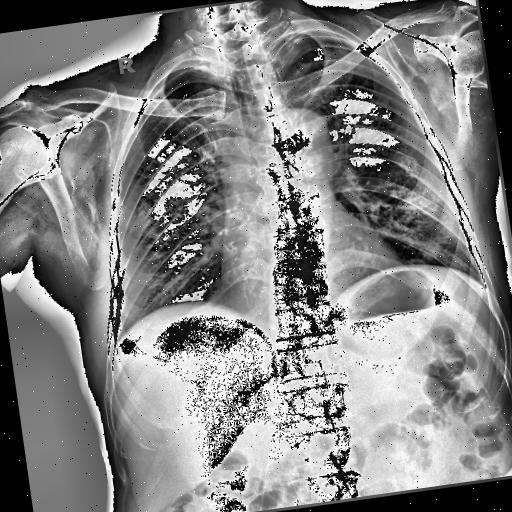0- Aortic enlargement: (262, 102, 337, 171), (269, 100, 331, 162)
11- Pleural thickening: (264, 24, 322, 70)
3- Cardiomegaly: (208, 240, 409, 312)
6- Infiltration: (356, 164, 460, 270)
9- Other lesion: (266, 167, 334, 254)
